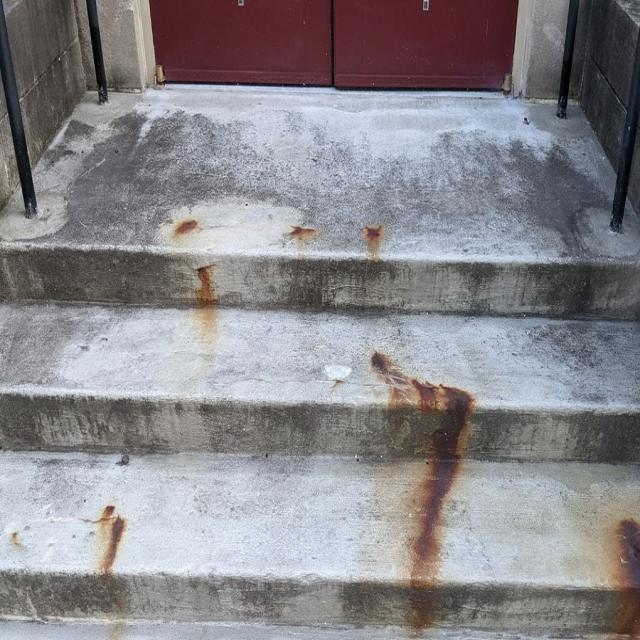corrosion: (418, 386, 470, 543), (618, 517, 637, 598)
